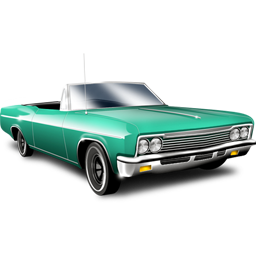car: (1, 82, 256, 197)
